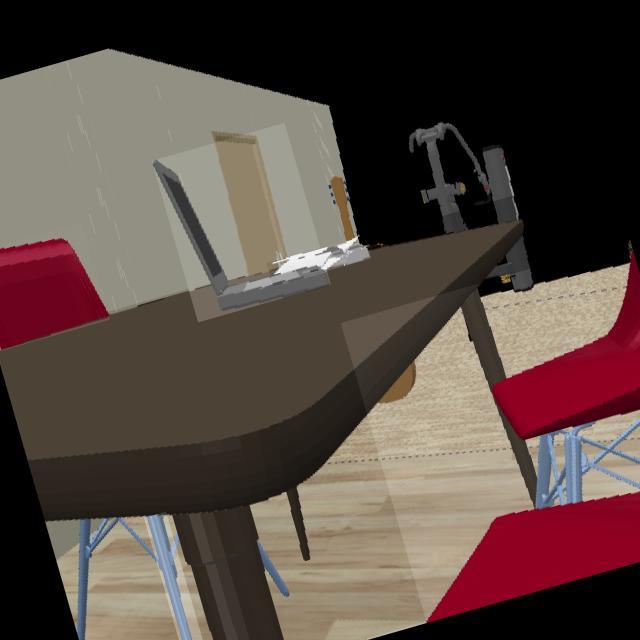book: (270, 237, 370, 277)
chair: (427, 241, 640, 621), (0, 239, 109, 350), (144, 518, 195, 640)
laptop: (154, 159, 330, 311)
table: (0, 222, 526, 640)
